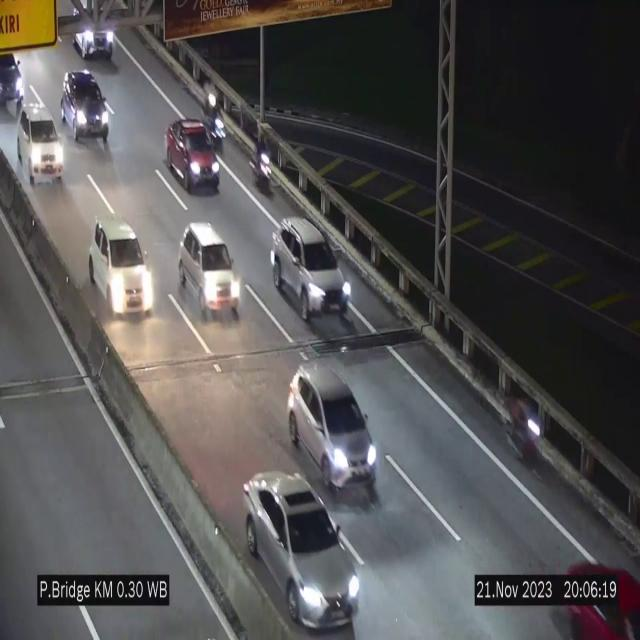Car: (246, 471, 362, 636), (288, 363, 378, 495), (270, 218, 352, 325), (175, 220, 243, 322), (88, 218, 154, 314), (61, 74, 117, 154), (166, 119, 220, 193), (20, 105, 61, 187)
Motorcycle: (506, 384, 542, 468), (253, 128, 274, 200), (207, 76, 226, 149)
